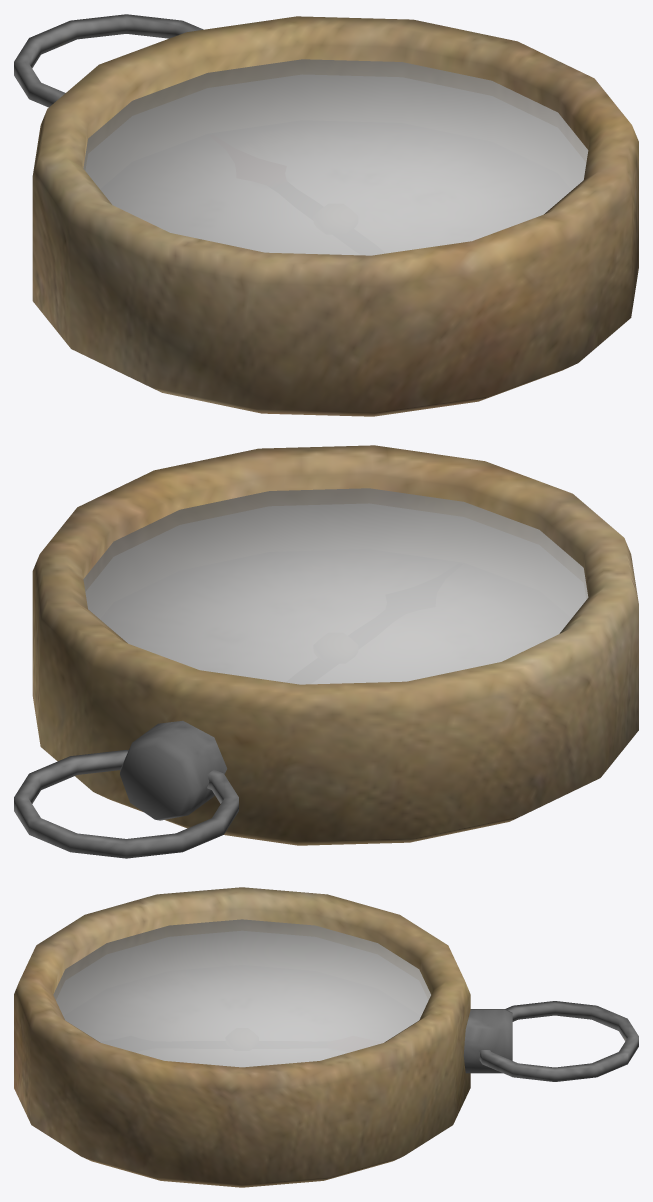
File: SMP_MOD_Compass.fbx
3 views of the same model, one above another, from view 1: azimuth 30°, elevation 25°; view 2: azimuth 150°, elevation 25°; view 3: azimuth 270°, elevation 25° (orthographic). The views are drawn at different scales.
Parts seen in each view (by area): view 1: DHOP_MOD_Compass; view 2: DHOP_MOD_Compass; view 3: DHOP_MOD_Compass.
Boxes of the visible parts, x1,y1,x2,y2 form: DHOP_MOD_Compass: (14, 14, 638, 416); DHOP_MOD_Compass: (14, 445, 638, 858); DHOP_MOD_Compass: (14, 887, 638, 1187).
Size of the model in its own units: 0.082 by 0.023 by 0.1122.
